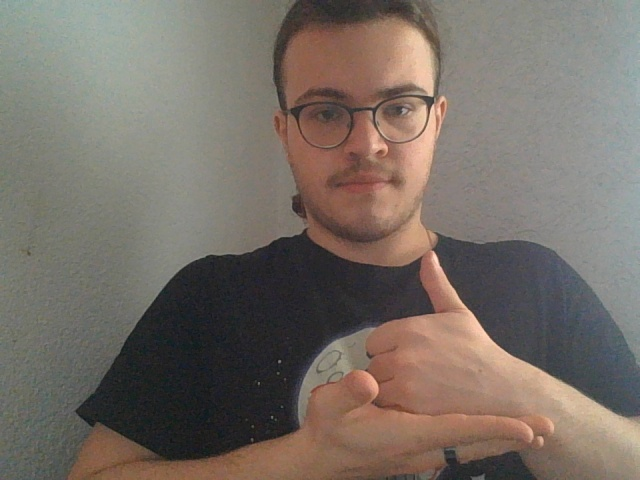Help: (297, 250, 562, 476)
